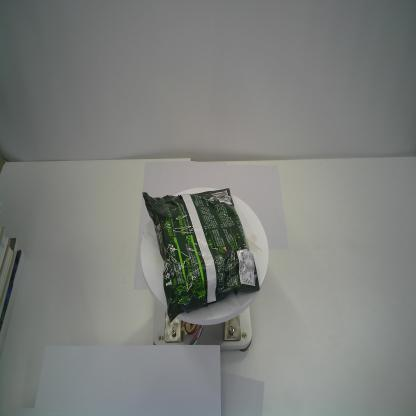Instant Noodles: (140, 184, 261, 325)
